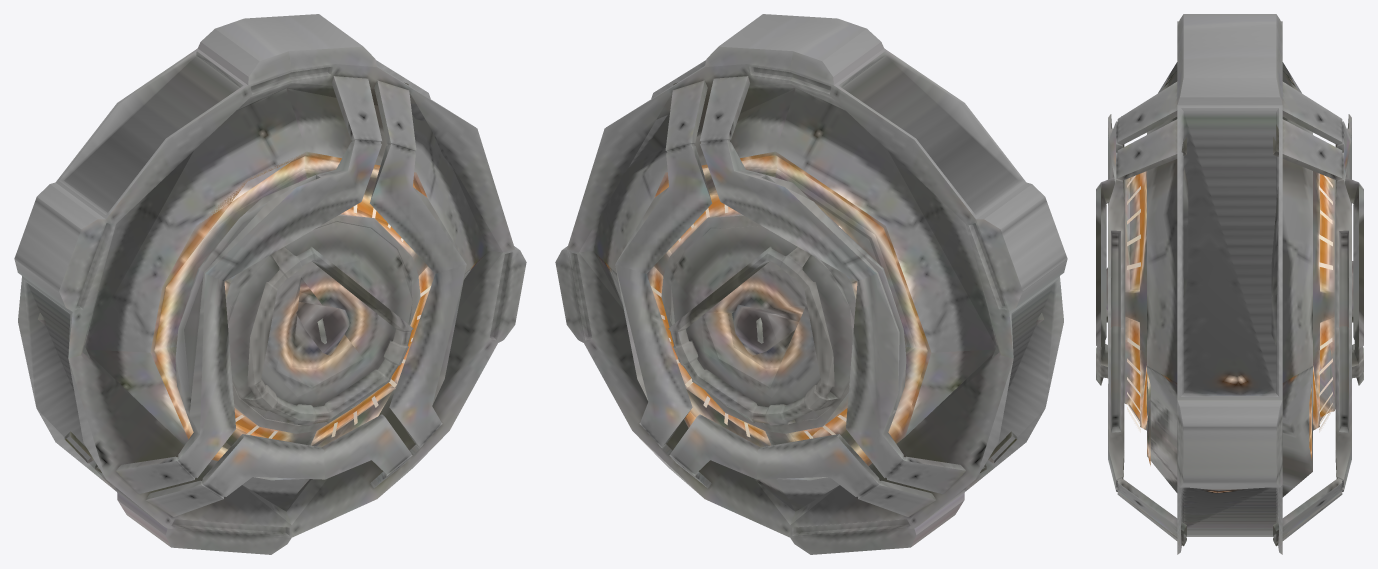
Rendered from PRP_PlasmaGlobe_lod.glb.
3 renders of one model, left to right at view 1: azimuth 30°, elevation 25°; view 2: azimuth 150°, elevation 25°; view 3: azimuth 270°, elevation 25°, orthographic. The views are drawn at different scales.
Parts seen in each view (by area): view 1: energy_core_1_low_Material_0; view 2: energy_core_1_low_Material_0; view 3: energy_core_1_low_Material_0.
Boxes of the visible parts, left/top/right/bottom form: energy_core_1_low_Material_0: left=14, top=14, right=526, bottom=554; energy_core_1_low_Material_0: left=555, top=14, right=1067, bottom=554; energy_core_1_low_Material_0: left=1096, top=14, right=1363, bottom=554.
Bounding box in the file's own units: 1.79 × 1.83 × 0.8547.
1 material, 1 textured.
